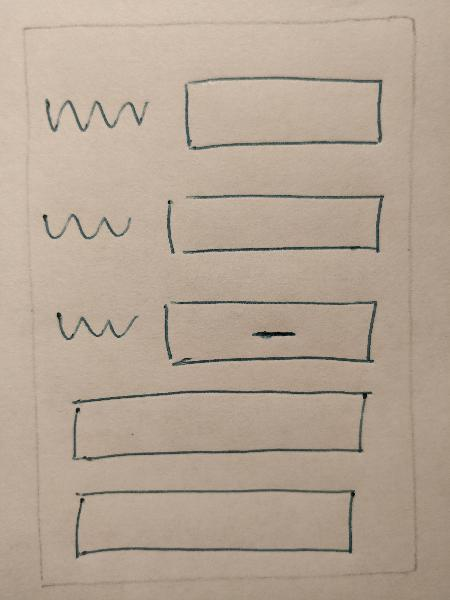button: (156, 291, 386, 372)
text: (38, 90, 155, 144), (48, 299, 144, 348), (36, 204, 136, 250)
text_input: (66, 386, 375, 465), (62, 483, 373, 561), (176, 72, 389, 160), (163, 186, 387, 264)
